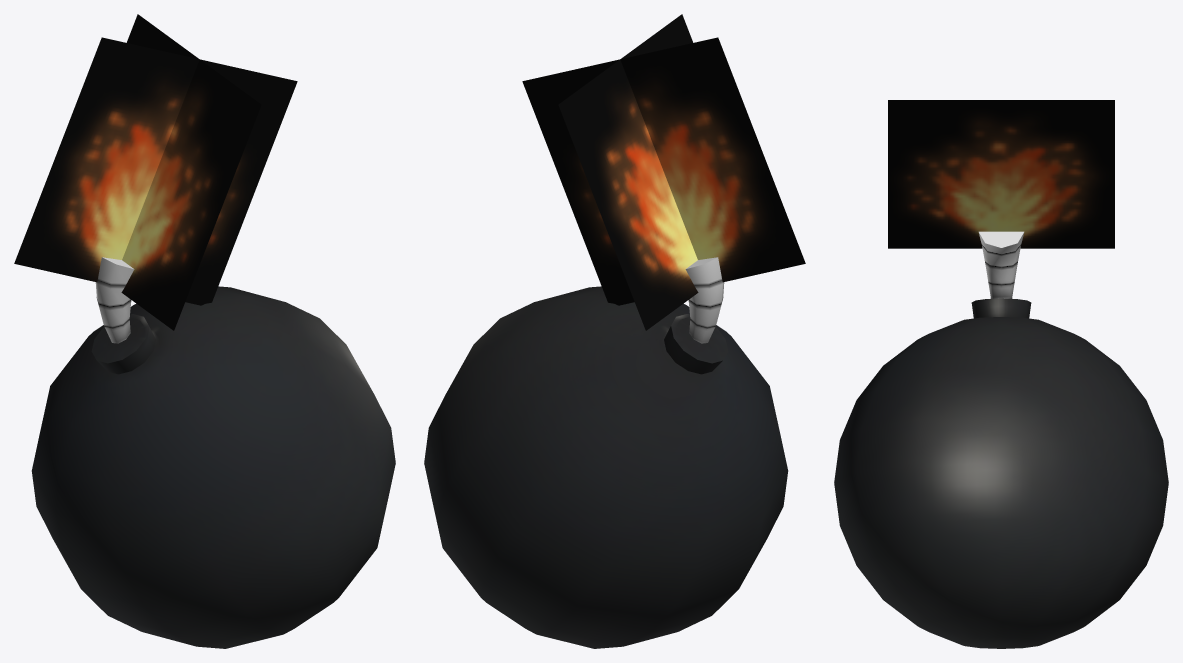
File: Bomb_i_01.fbx
3 views of the same model, side by side, from view 1: azimuth 30°, elevation 25°; view 2: azimuth 150°, elevation 25°; view 3: azimuth 270°, elevation 25° (orthographic). The views are drawn at different scales.
Visible parts, largest first — view 1: Bomb01, fire1, fire2; view 2: Bomb01, fire1, fire2; view 3: Bomb01, fire2.
Part boxes in pixels (<box>): Bomb01: <box>31,257,395,648</box>; fire1: <box>14,37,297,305</box>; fire2: <box>121,14,261,330</box>; Bomb01: <box>424,257,788,648</box>; fire1: <box>522,37,805,305</box>; fire2: <box>558,14,698,330</box>; Bomb01: <box>834,231,1168,648</box>; fire2: <box>888,100,1114,248</box>.
Size of the model in its own units: 0.8157 by 1.36 by 0.7214.
